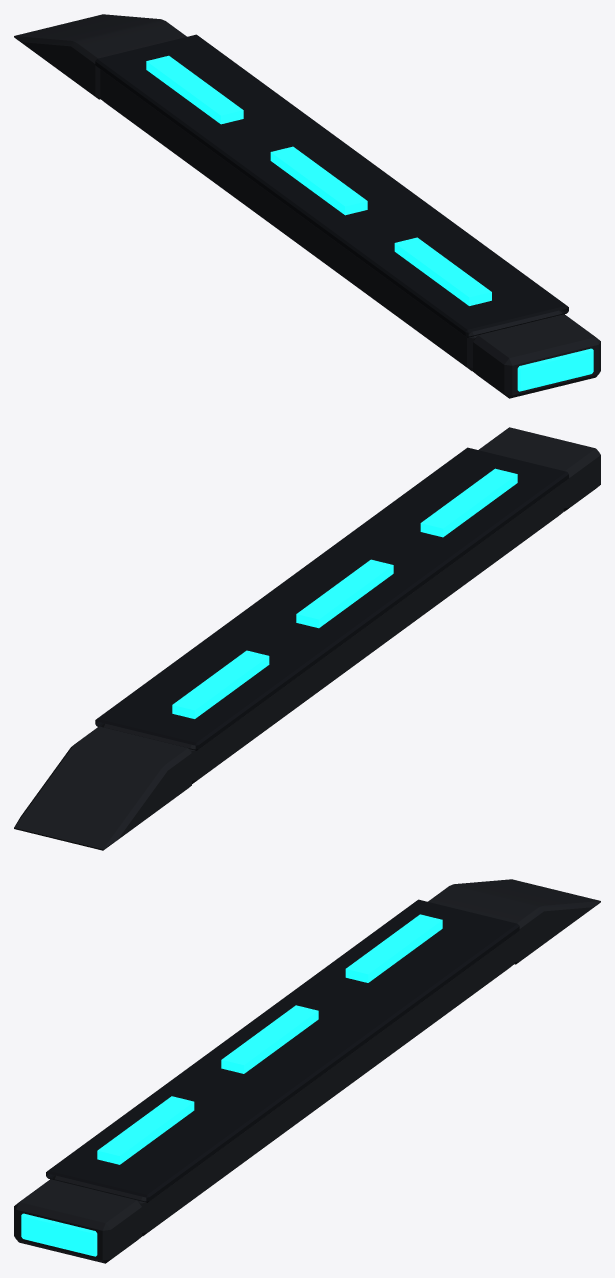
Rendered from rocket_flat_neon.glb.
3 views of the same model, one above another, from view 1: azimuth 30°, elevation 25°; view 2: azimuth 150°, elevation 25°; view 3: azimuth 330°, elevation 25° (orthographic).
Parts seen in each view (by area): view 1: rocket_flat_neon_MID_deco_trim, rocket_flat_neon_MID_deco_body, rocket_flat_neon_MID_deco_neon, rocket_flat_neon_TAIL_deco_body, rocket_flat_neon_HEAD_deco_body, rocket_flat_neon_HEAD_deco_neon; view 2: rocket_flat_neon_MID_deco_trim, rocket_flat_neon_TAIL_deco_body, rocket_flat_neon_MID_deco_body, rocket_flat_neon_MID_deco_neon, rocket_flat_neon_HEAD_deco_body; view 3: rocket_flat_neon_MID_deco_trim, rocket_flat_neon_MID_deco_body, rocket_flat_neon_MID_deco_neon, rocket_flat_neon_TAIL_deco_body, rocket_flat_neon_HEAD_deco_body, rocket_flat_neon_HEAD_deco_neon.
Part boxes in pixels (x1,y1,x2,y2): rocket_flat_neon_MID_deco_trim: (95, 34, 568, 337); rocket_flat_neon_MID_deco_body: (100, 69, 561, 371); rocket_flat_neon_MID_deco_neon: (146, 55, 491, 305); rocket_flat_neon_TAIL_deco_body: (14, 14, 186, 99); rocket_flat_neon_HEAD_deco_body: (473, 314, 600, 398); rocket_flat_neon_HEAD_deco_neon: (517, 348, 593, 391); rocket_flat_neon_MID_deco_trim: (95, 447, 568, 750); rocket_flat_neon_TAIL_deco_body: (14, 726, 191, 850); rocket_flat_neon_MID_deco_body: (102, 482, 563, 783); rocket_flat_neon_MID_deco_neon: (172, 468, 517, 718); rocket_flat_neon_HEAD_deco_body: (478, 427, 600, 511); rocket_flat_neon_MID_deco_trim: (46, 899, 519, 1202); rocket_flat_neon_MID_deco_body: (53, 934, 514, 1236); rocket_flat_neon_MID_deco_neon: (97, 914, 442, 1164); rocket_flat_neon_TAIL_deco_body: (428, 879, 600, 964); rocket_flat_neon_HEAD_deco_body: (14, 1179, 141, 1263); rocket_flat_neon_HEAD_deco_neon: (21, 1213, 97, 1256).
Bounding box in the file's own units: 0.16 × 0.079 × 1.34.
